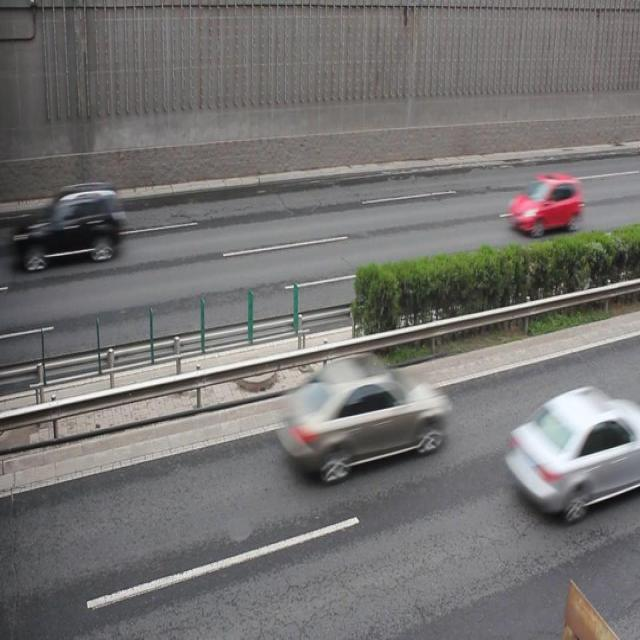car: (280, 355, 449, 479), (502, 382, 640, 517), (24, 180, 125, 268), (508, 172, 584, 233)
